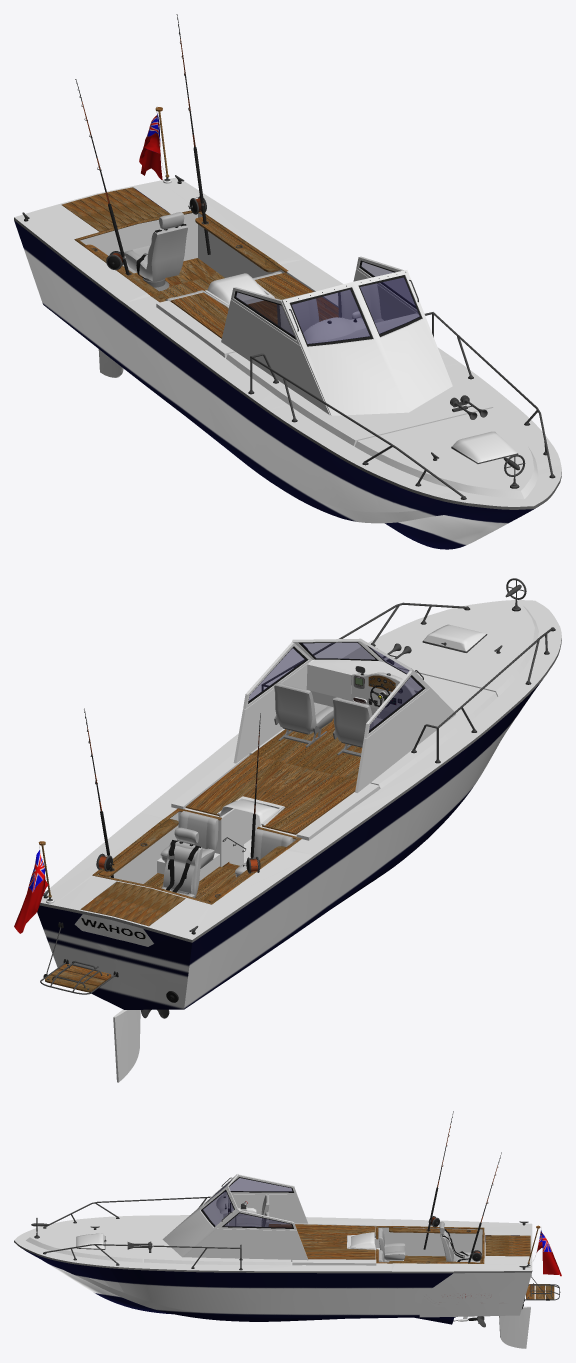
File: FishingBoat.fbx
The picture shows the model from 3 angles, top to bottom: view 1: azimuth 30°, elevation 25°; view 2: azimuth 150°, elevation 25°; view 3: azimuth 270°, elevation 25°; orthographic projection. The views are drawn at different scales.
Visible parts, largest first — view 1: WAHOship, WAHOside, WAHOwodF, WAHOsea1, WAHOchro, WAHOblak, WAHOwiFR, WAHOgry2, WAHOwiFL, WAHOwood, WAHOsea2, WAHOflag (+1 smaller); view 2: WAHOship, WAHOside, WAHOwodF, WAHOback, WAHOsea1, WAHOchro, WAHOgry2, WAHOsea2, WAHOblak, WAHOrudd, WAHOwood, WAHOwaho (+4 smaller); view 3: WAHOship, WAHOside, WAHOwodF, WAHOlogo, WAHOchro, WAHOgry2, WAHOblak, WAHOsea1, WAHOrudd, WAHOsea2, WAHOwiL, WAHOwiFL (+3 smaller).
Part boxes in pixels (x1,y1,x2,y2): WAHOship: (14,106,561,506); WAHOside: (14,220,538,549); WAHOwodF: (62,107,338,338); WAHOsea1: (124,212,383,332); WAHOchro: (22,14,554,498); WAHOblak: (24,14,555,499); WAHOwiFR: (292,289,369,343); WAHOgry2: (14,187,561,509); WAHOwiFL: (360,277,419,333); WAHOwood: (86,216,280,299); WAHOsea2: (132,226,371,335); WAHOflag: (139,113,162,179); WAHOship: (39,600,561,939); WAHOside: (80,680,542,1009); WAHOwodF: (38,675,395,992); WAHOback: (37,905,192,1009); WAHOsea1: (160,683,373,897); WAHOchro: (40,578,554,994); WAHOgry2: (40,638,561,942); WAHOsea2: (163,684,382,894); WAHOblak: (43,608,555,1002); WAHOrudd: (113,1009,140,1082); WAHOwood: (98,819,285,902); WAHOwaho: (74,677,359,946); WAHOship: (14,1174,541,1321); WAHOside: (23,1235,523,1324); WAHOwodF: (268,1224,554,1299); WAHOlogo: (419,1272,531,1317); WAHOchro: (31,1111,560,1321); WAHOgry2: (14,1240,532,1273); WAHOblak: (34,1111,549,1320); WAHOsea1: (235,1194,480,1262); WAHOrudd: (499,1306,530,1348); WAHOsea2: (236,1196,472,1262); WAHOwiL: (224,1213,292,1227); WAHOwiFL: (203,1191,233,1225).
Size of the model in its own units: 2209 by 3948 by 9217.
